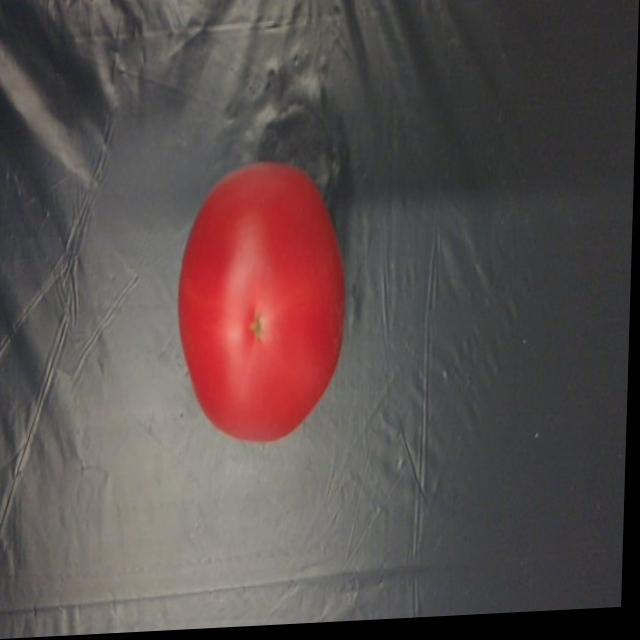kirmizi: (178, 159, 354, 453)
